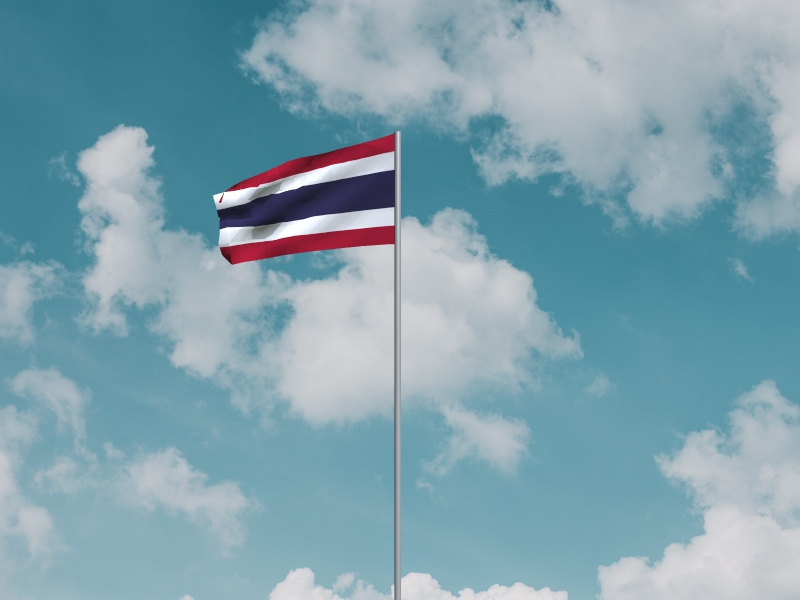th: (213, 133, 394, 266)
